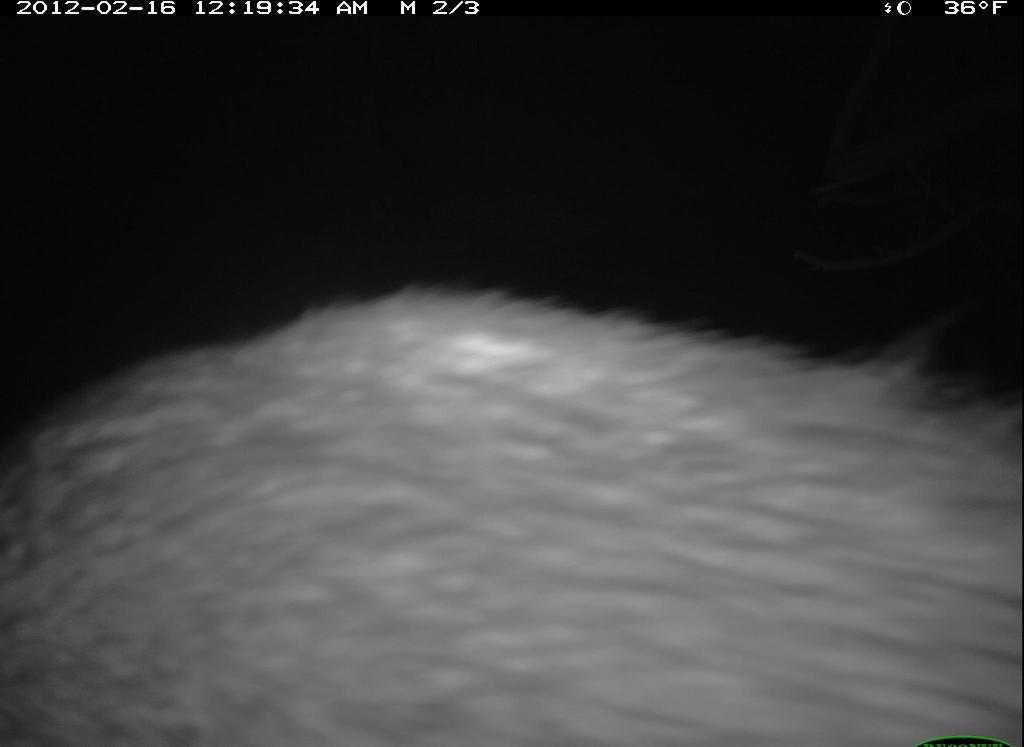raccoon: (3, 272, 1023, 747)
